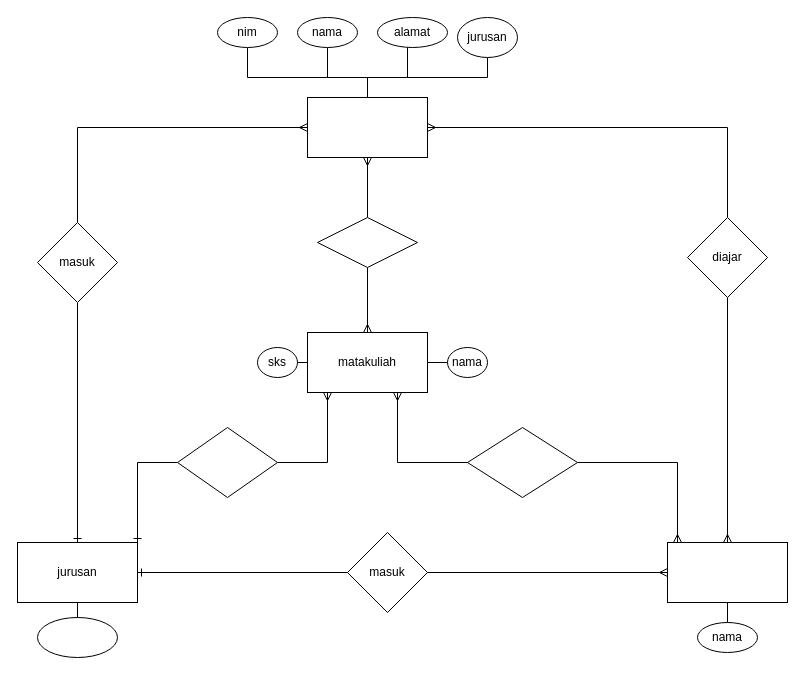
Image size: 805x675. Some labels were removed from this diagram. Here are the shapes that lost their labels. From the top down, the centre of each, then its label:
[367,127]: mahasiswa
[367,242]: mengambil
[227,462]: memiliki
[522,462]: mengajar
[727,572]: dosen
[77,637]: namajurusan
